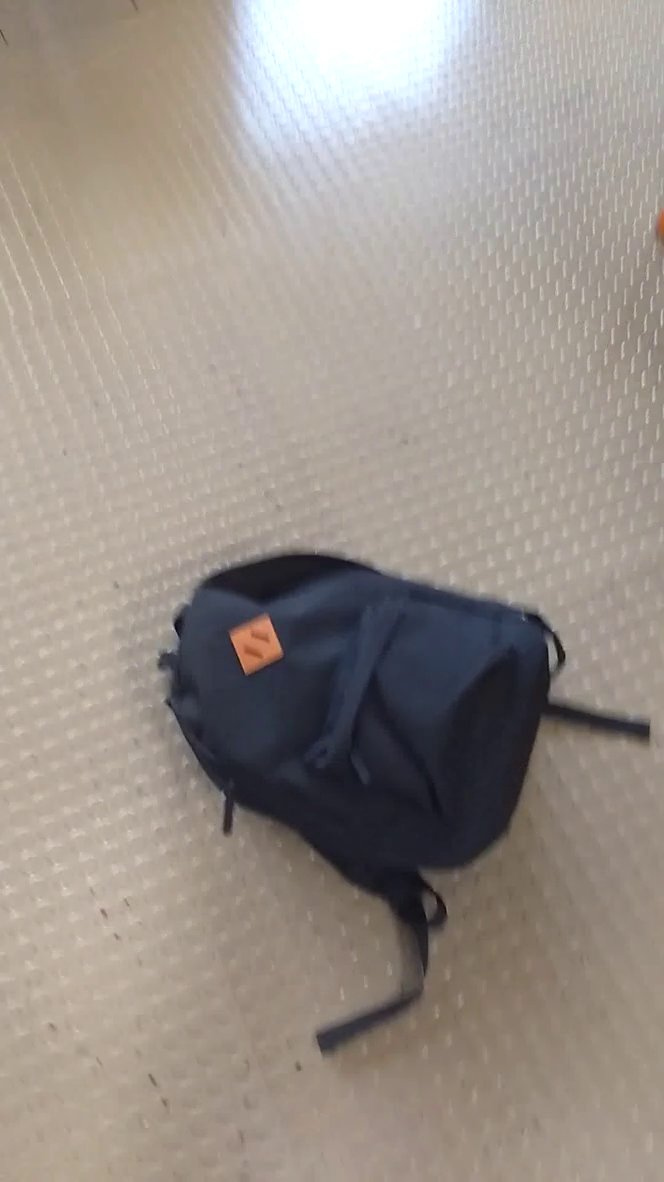bag: (140, 533, 660, 1064)
